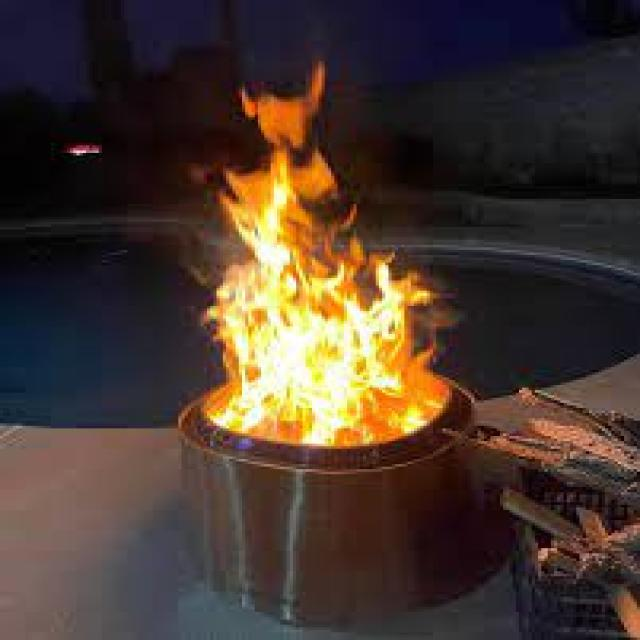fire: (196, 63, 452, 448)
